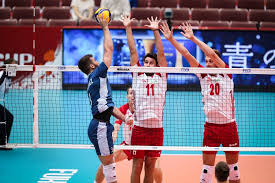ball: (94, 7, 113, 25)
